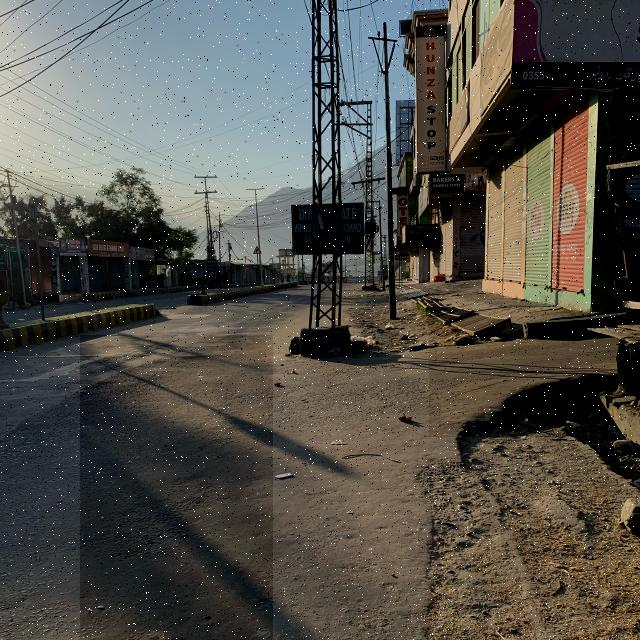right: (429, 309, 640, 437)
straight: (80, 335, 273, 640)
